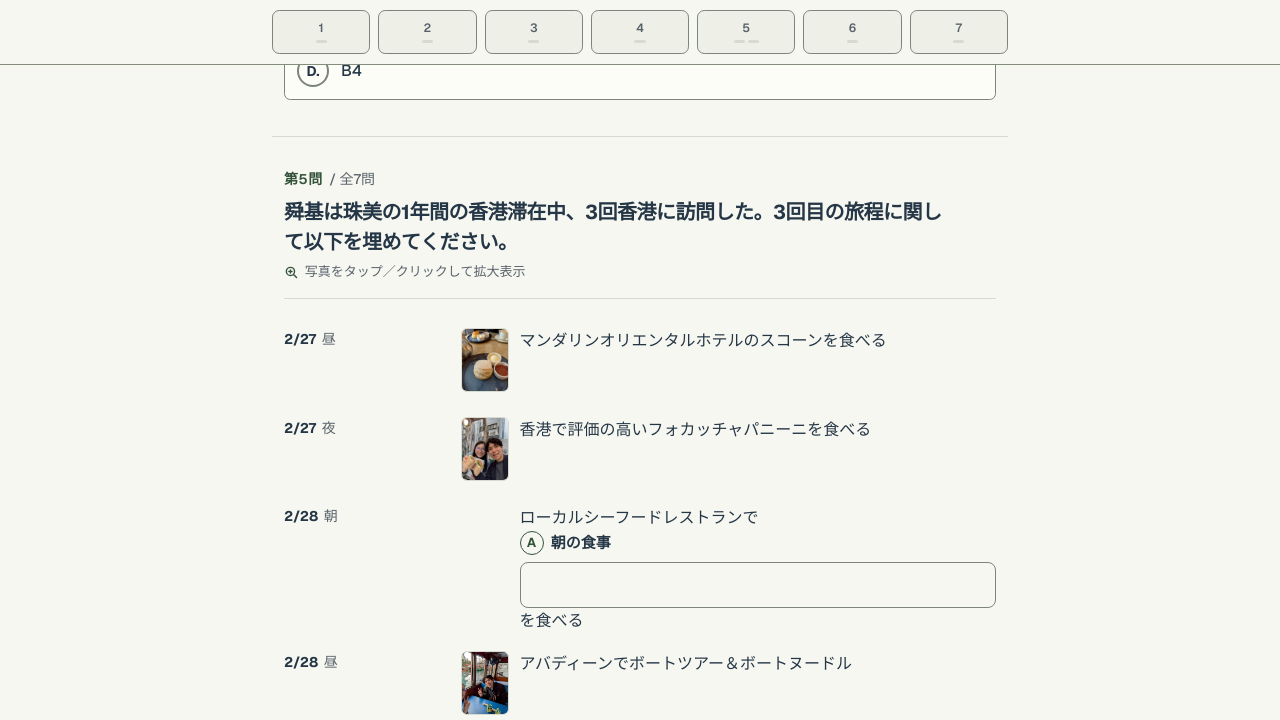
Test: QuizRunner batch answer sheet › opens and closes the Q5 activity photo preview
(page scrolled)
Click the button named "マンダリンオリエンタルホテルのスコーンの写真を拡大表示".
click(485, 360)  # box [461,328,509,392]
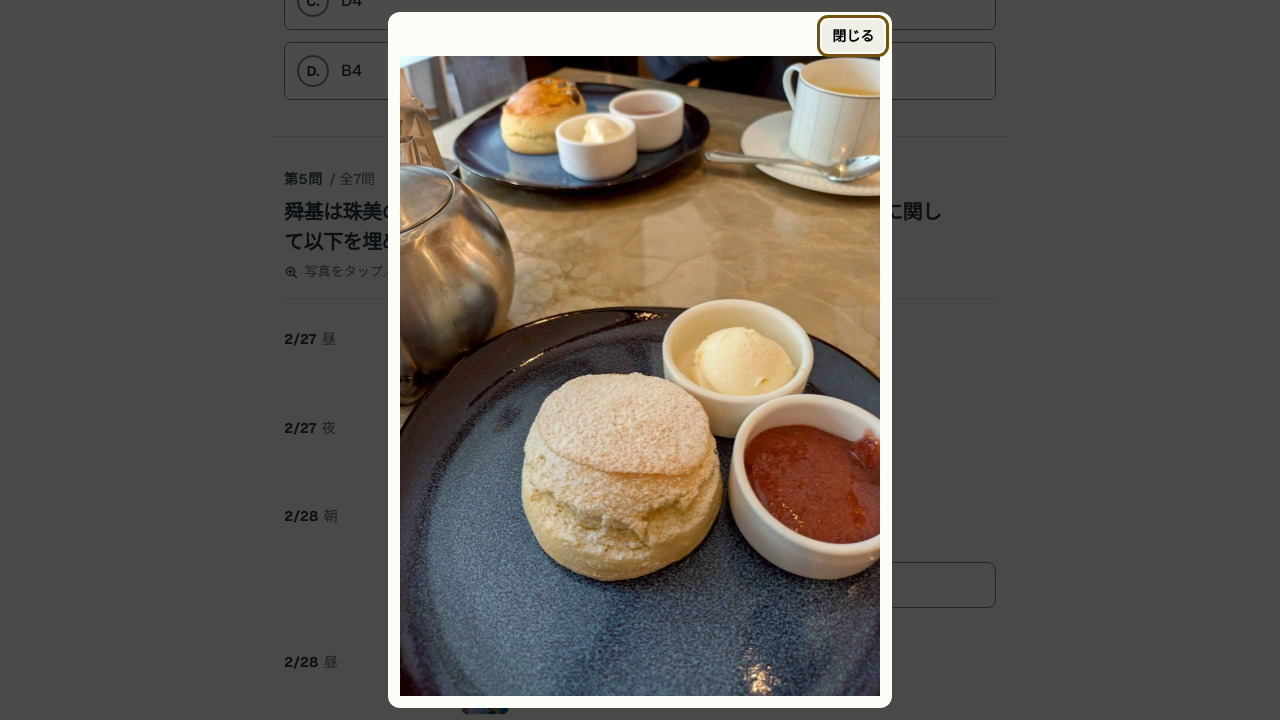
Result: the dialog named "マンダリンオリエンタルホテルのスコーンの写真" is shown at [388,12,892,708]
Click the button with aria-label "写真を閉じる".
click(853, 36)  # box [822,20,884,52]
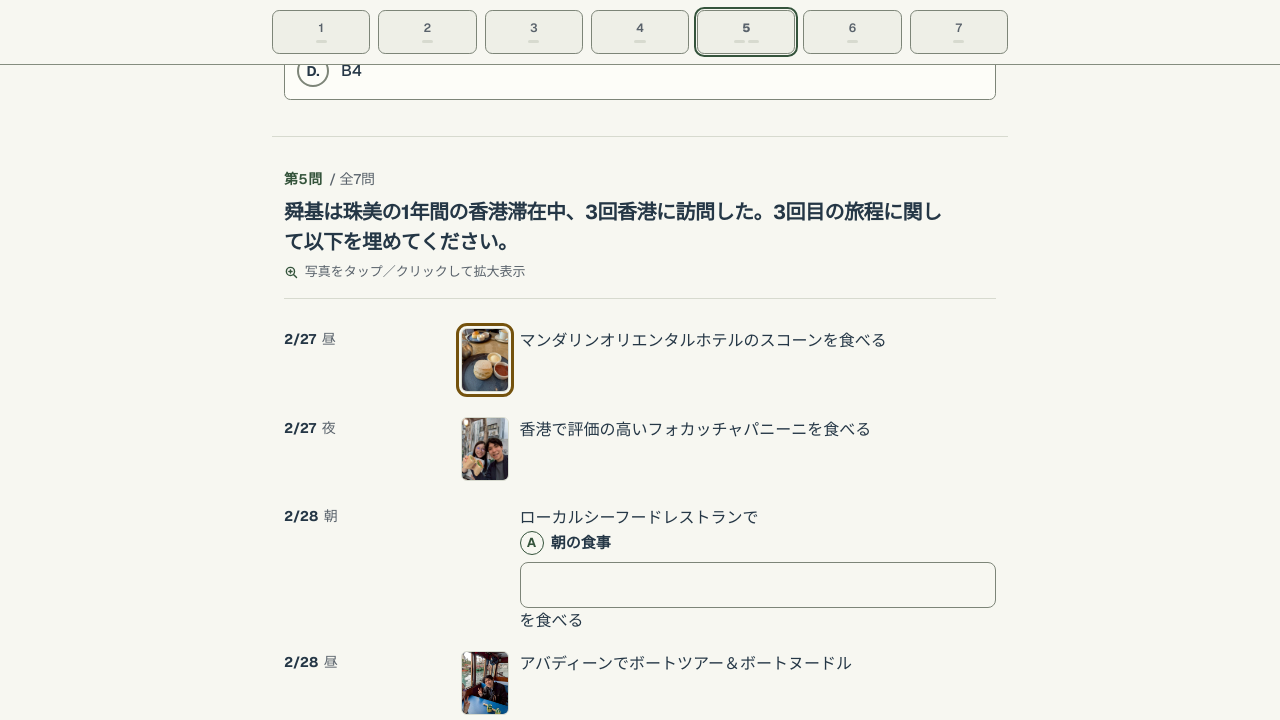
Result: the dialog "マンダリンオリエンタルホテルのスコーンの写真" is gone
